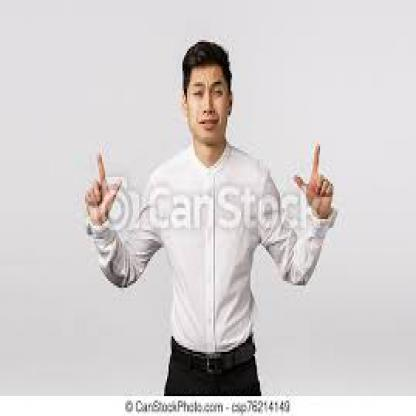Up: (78, 145, 130, 251), (290, 130, 339, 237)
